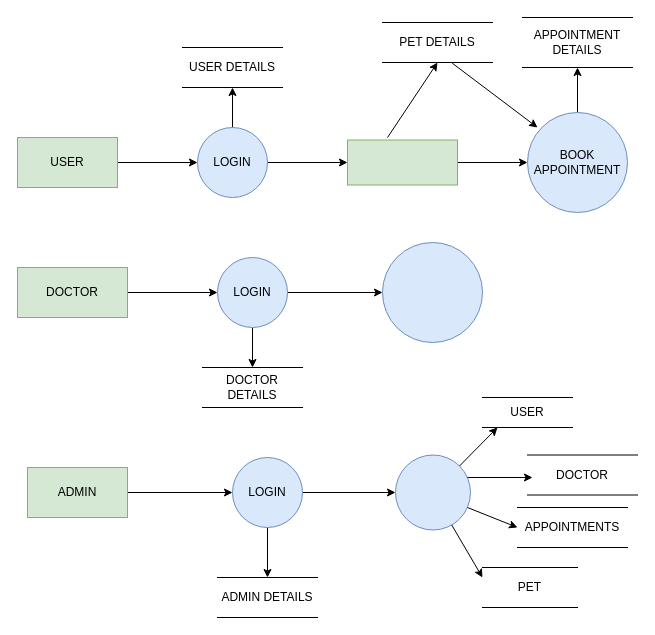
Image size: 655x635. Some labels were removed from this diagram. Each missing label, with the box of its shape:
ACCESS: (394, 454, 470, 530)
CHECK APPOINTMENTS: (382, 242, 482, 342)
REGISTER PET: (346, 139, 458, 185)
